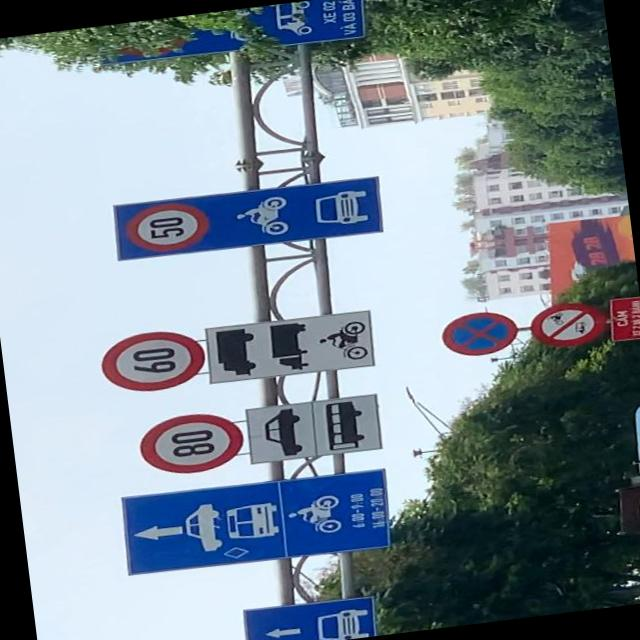P-104: (527, 297, 611, 348)
P-127: (135, 408, 244, 476), (98, 324, 206, 392)
P-130: (439, 308, 519, 357)
